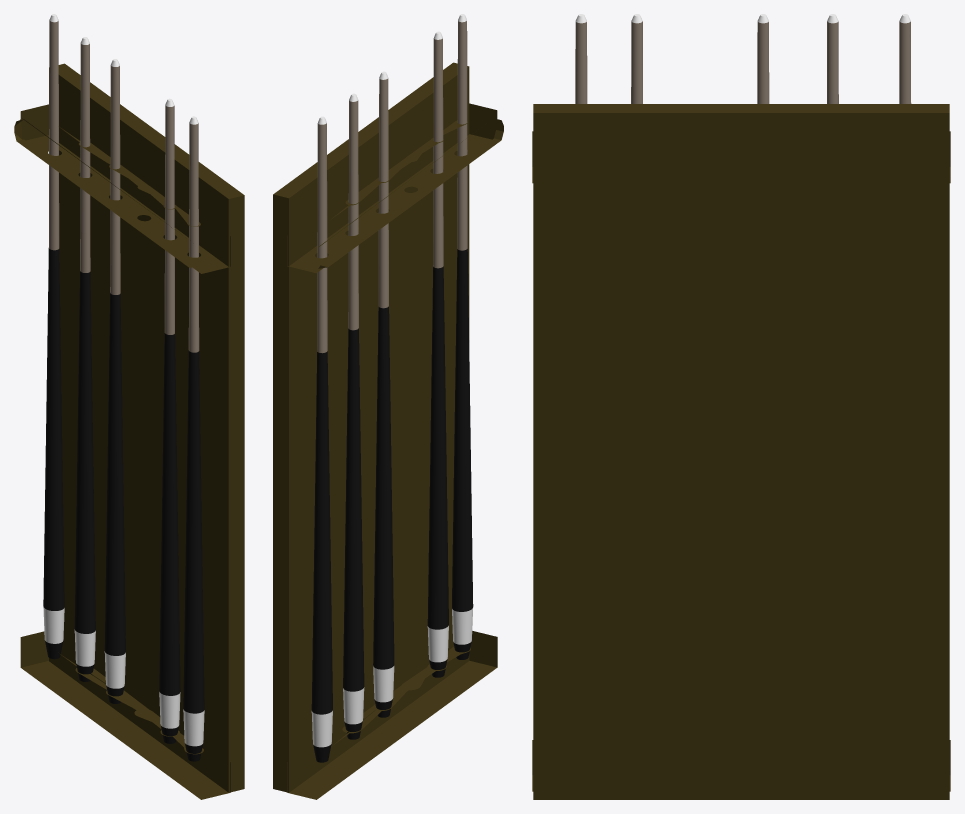
File: PoolCue.fbx
3 renders of one model, left to right at view 1: azimuth 30°, elevation 25°; view 2: azimuth 150°, elevation 25°; view 3: azimuth 270°, elevation 25°, orthographic. The views are drawn at different scales.
Visible parts, largest first — view 1: Cube, Cylinder.004, Cylinder.003, Cylinder.002, Cylinder.005, Cylinder.001; view 2: Cube, Cylinder.002, Cylinder.004, Cylinder.005, Cylinder.001, Cylinder.003; view 3: Cube, Cylinder.004, Cylinder.003, Cylinder.002, Cylinder.001, Cylinder.005.
Part boxes in pixels (box(x1,y1,x2,y2)): Cube: box(14, 63, 244, 799); Cylinder.004: box(183, 116, 204, 761); Cylinder.003: box(104, 59, 125, 703); Cylinder.002: box(43, 14, 64, 659); Cylinder.005: box(159, 98, 180, 743); Cylinder.001: box(74, 37, 95, 681); Cube: box(273, 62, 503, 799); Cylinder.002: box(311, 116, 332, 762); Cylinder.004: box(452, 14, 473, 659); Cylinder.005: box(427, 31, 448, 677); Cylinder.001: box(343, 93, 364, 739); Cylinder.003: box(373, 71, 394, 717); Cube: box(532, 104, 950, 799); Cylinder.004: box(575, 14, 587, 103); Cylinder.003: box(757, 14, 769, 103); Cylinder.002: box(899, 14, 911, 103); Cylinder.001: box(827, 14, 838, 103); Cylinder.005: box(631, 14, 642, 103).
Bounding box in the file's own units: 10.06 × 123 × 60.68.
